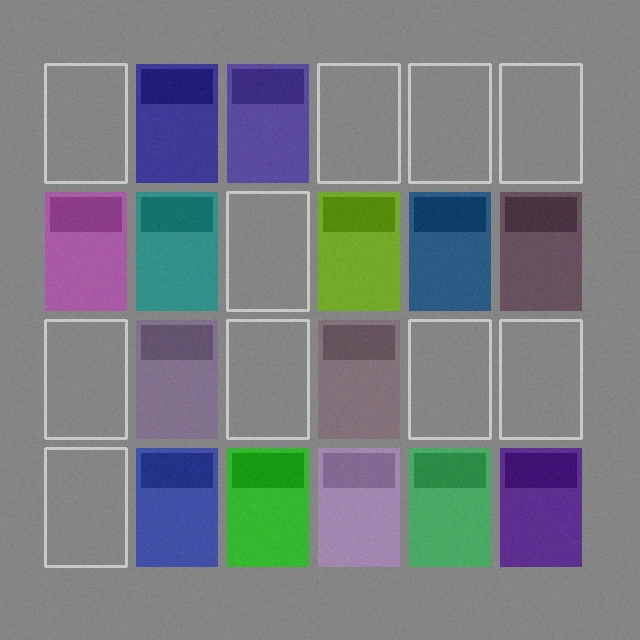space-empty: (45, 64, 126, 182), (318, 64, 399, 182), (409, 64, 490, 182), (500, 64, 581, 182), (227, 192, 308, 310), (45, 320, 126, 438), (227, 320, 308, 438), (409, 320, 490, 438), (500, 320, 581, 438), (45, 448, 126, 566)
space-occupied: (136, 64, 217, 182), (227, 64, 308, 182), (45, 192, 126, 310), (136, 192, 217, 310), (318, 192, 399, 310), (409, 192, 490, 310), (500, 192, 581, 310), (136, 320, 217, 438), (318, 320, 399, 438), (136, 448, 217, 566), (227, 448, 308, 566), (318, 448, 399, 566), (409, 448, 490, 566), (500, 448, 581, 566)
